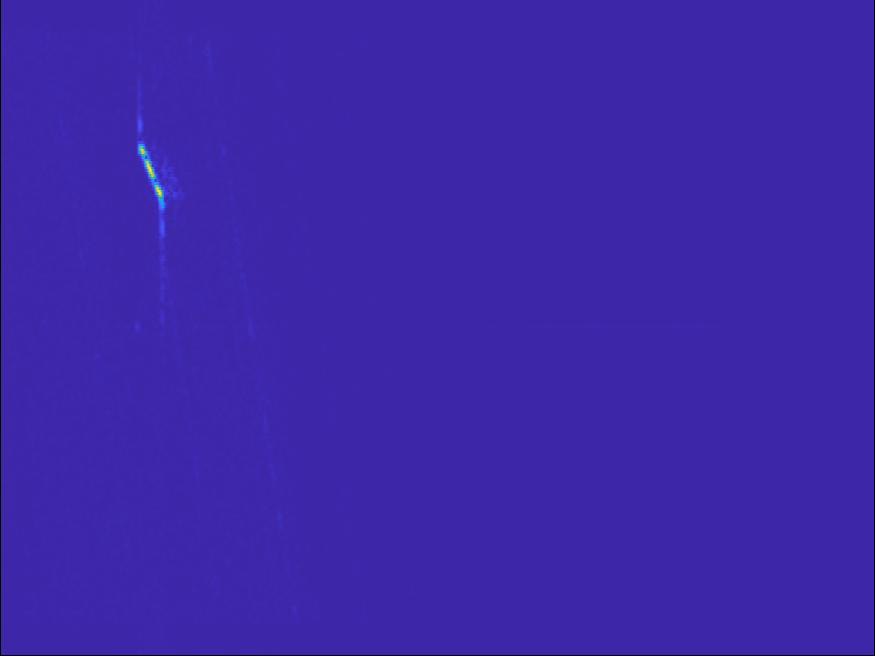Interference: (501, 484, 746, 656), (225, 607, 391, 650), (453, 181, 566, 224)
